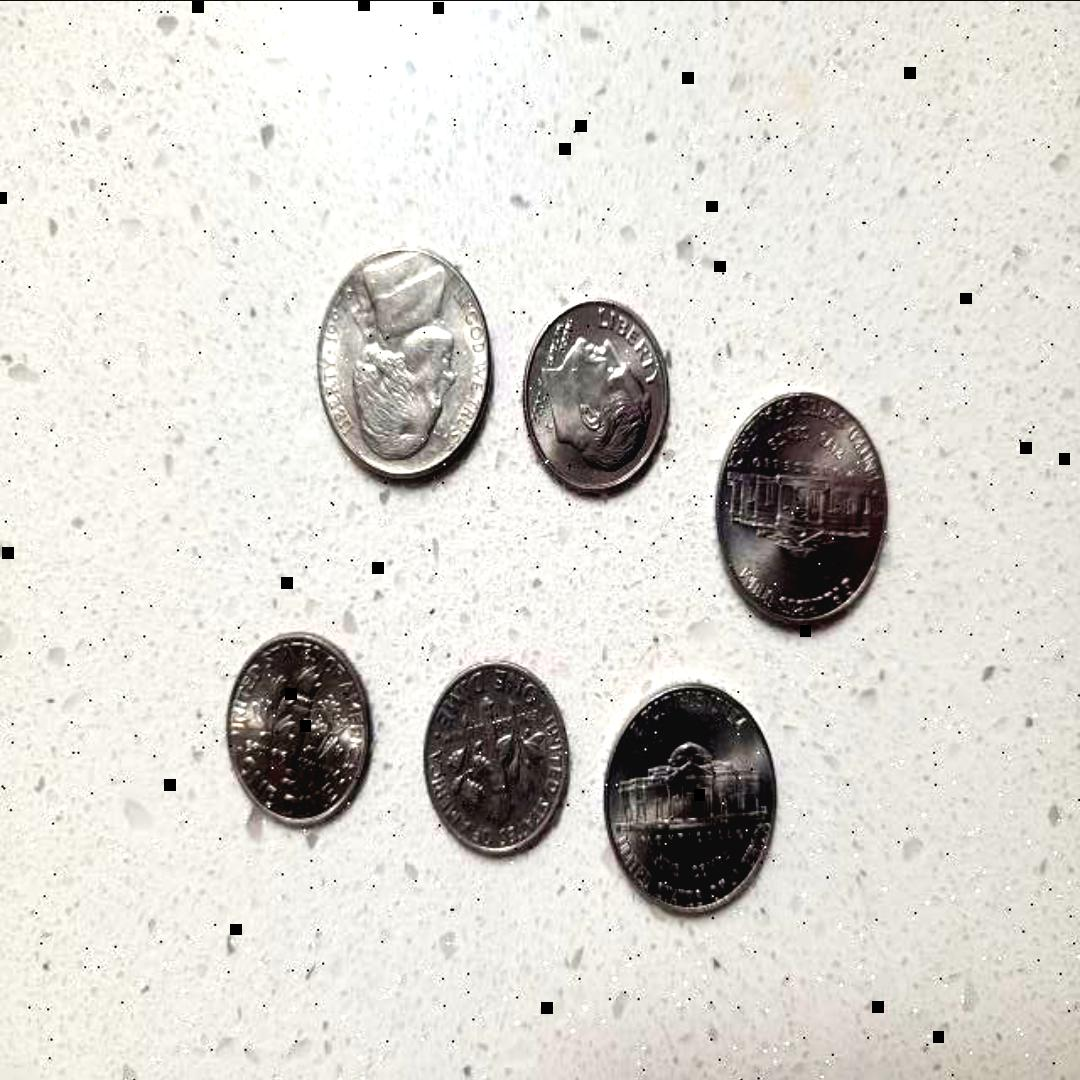Dime: (416, 657, 579, 869), (516, 296, 678, 508), (220, 625, 378, 835)
Nickel: (701, 382, 895, 638), (310, 241, 502, 487), (594, 672, 780, 920)
